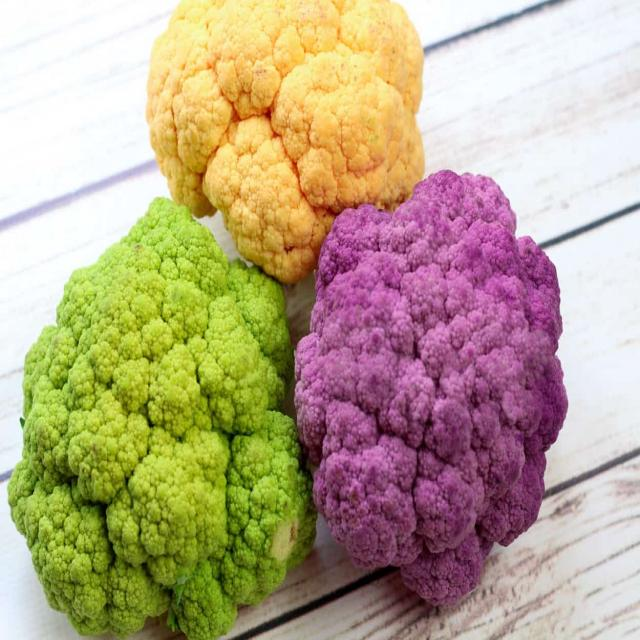Cauliflower head: (308, 226, 588, 596), (27, 237, 245, 640), (143, 0, 433, 205)
